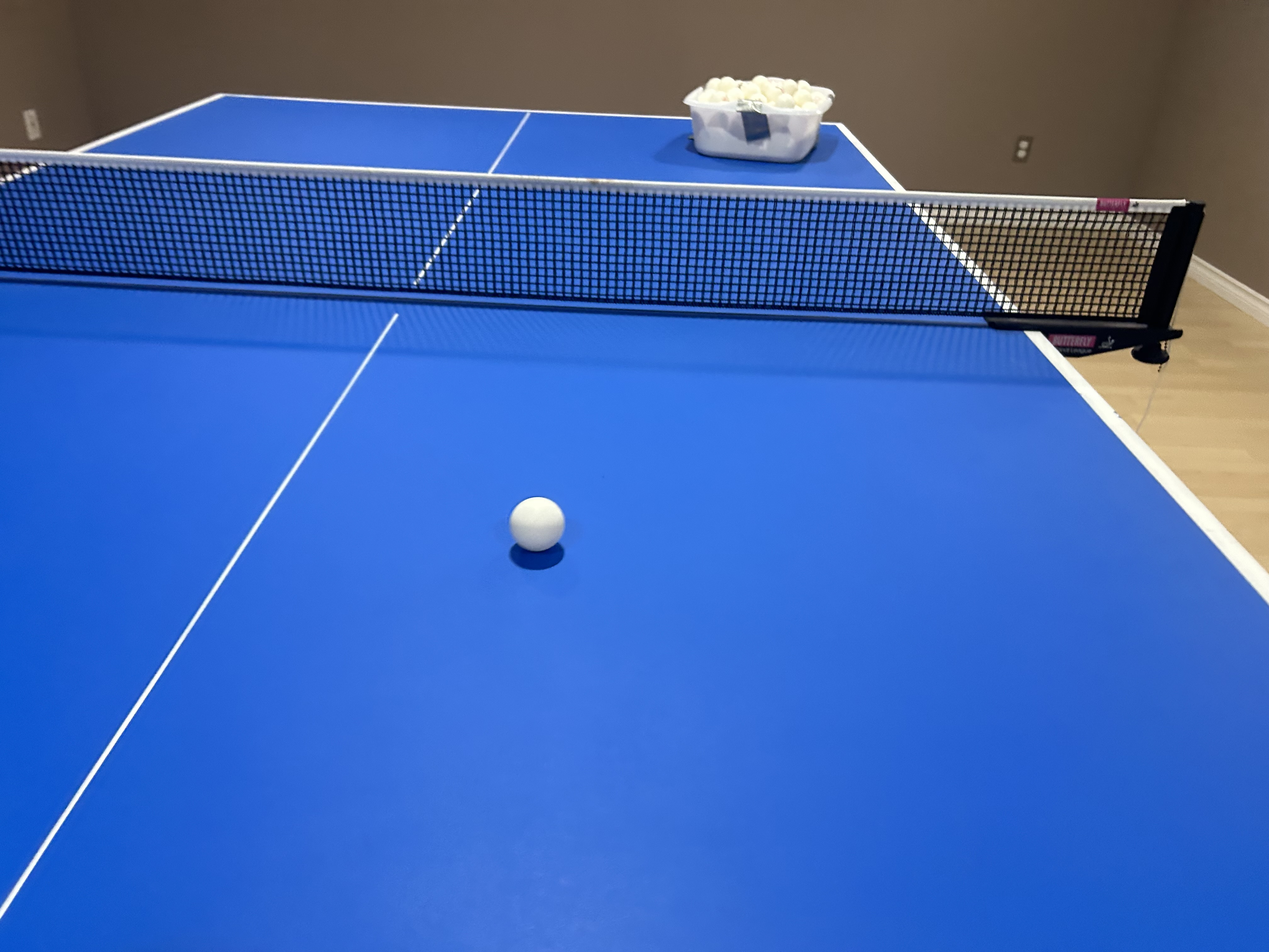Ball: (511, 493, 566, 556)
